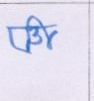i_matra: (29, 15, 56, 48)
